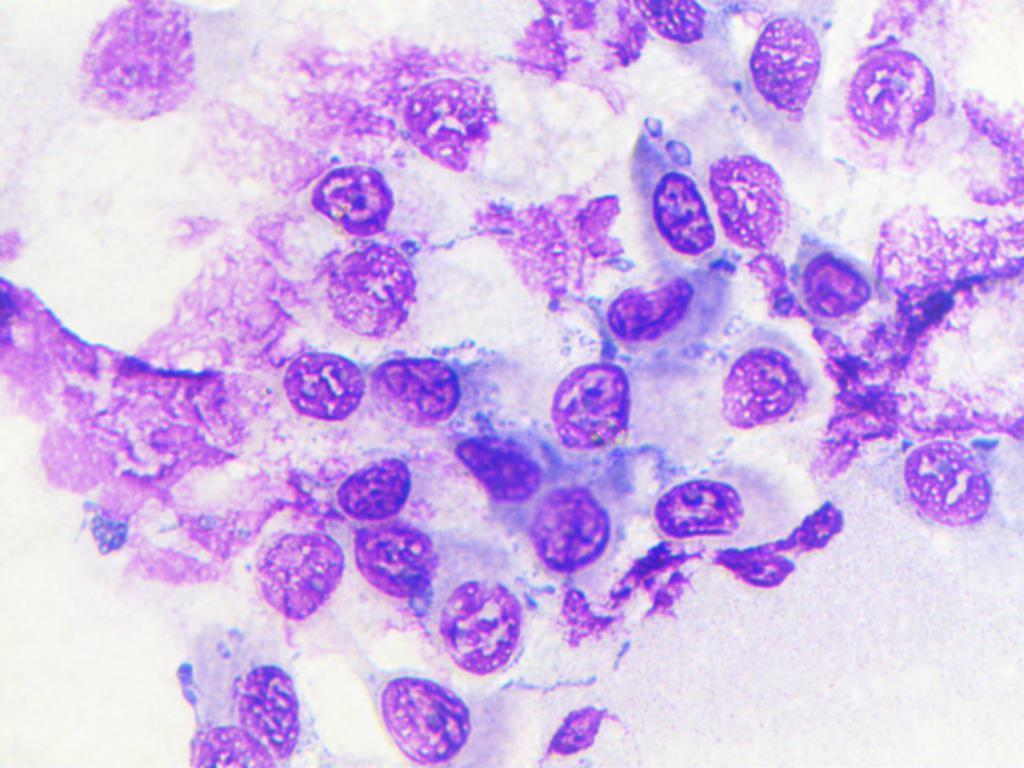artifact: (0, 242, 249, 557), (471, 184, 631, 316)
epithelial: (163, 619, 300, 767), (699, 333, 806, 451), (356, 665, 477, 762), (841, 32, 942, 145), (315, 234, 429, 330), (436, 567, 529, 681), (248, 524, 351, 620), (744, 14, 830, 128), (408, 70, 512, 164), (550, 358, 655, 451), (891, 437, 992, 527), (626, 467, 744, 540), (311, 156, 410, 241), (597, 264, 701, 344), (529, 477, 611, 577), (365, 349, 463, 430), (712, 146, 792, 245), (348, 522, 444, 604), (629, 163, 722, 247), (275, 348, 366, 426), (325, 443, 412, 519), (798, 247, 869, 329)
